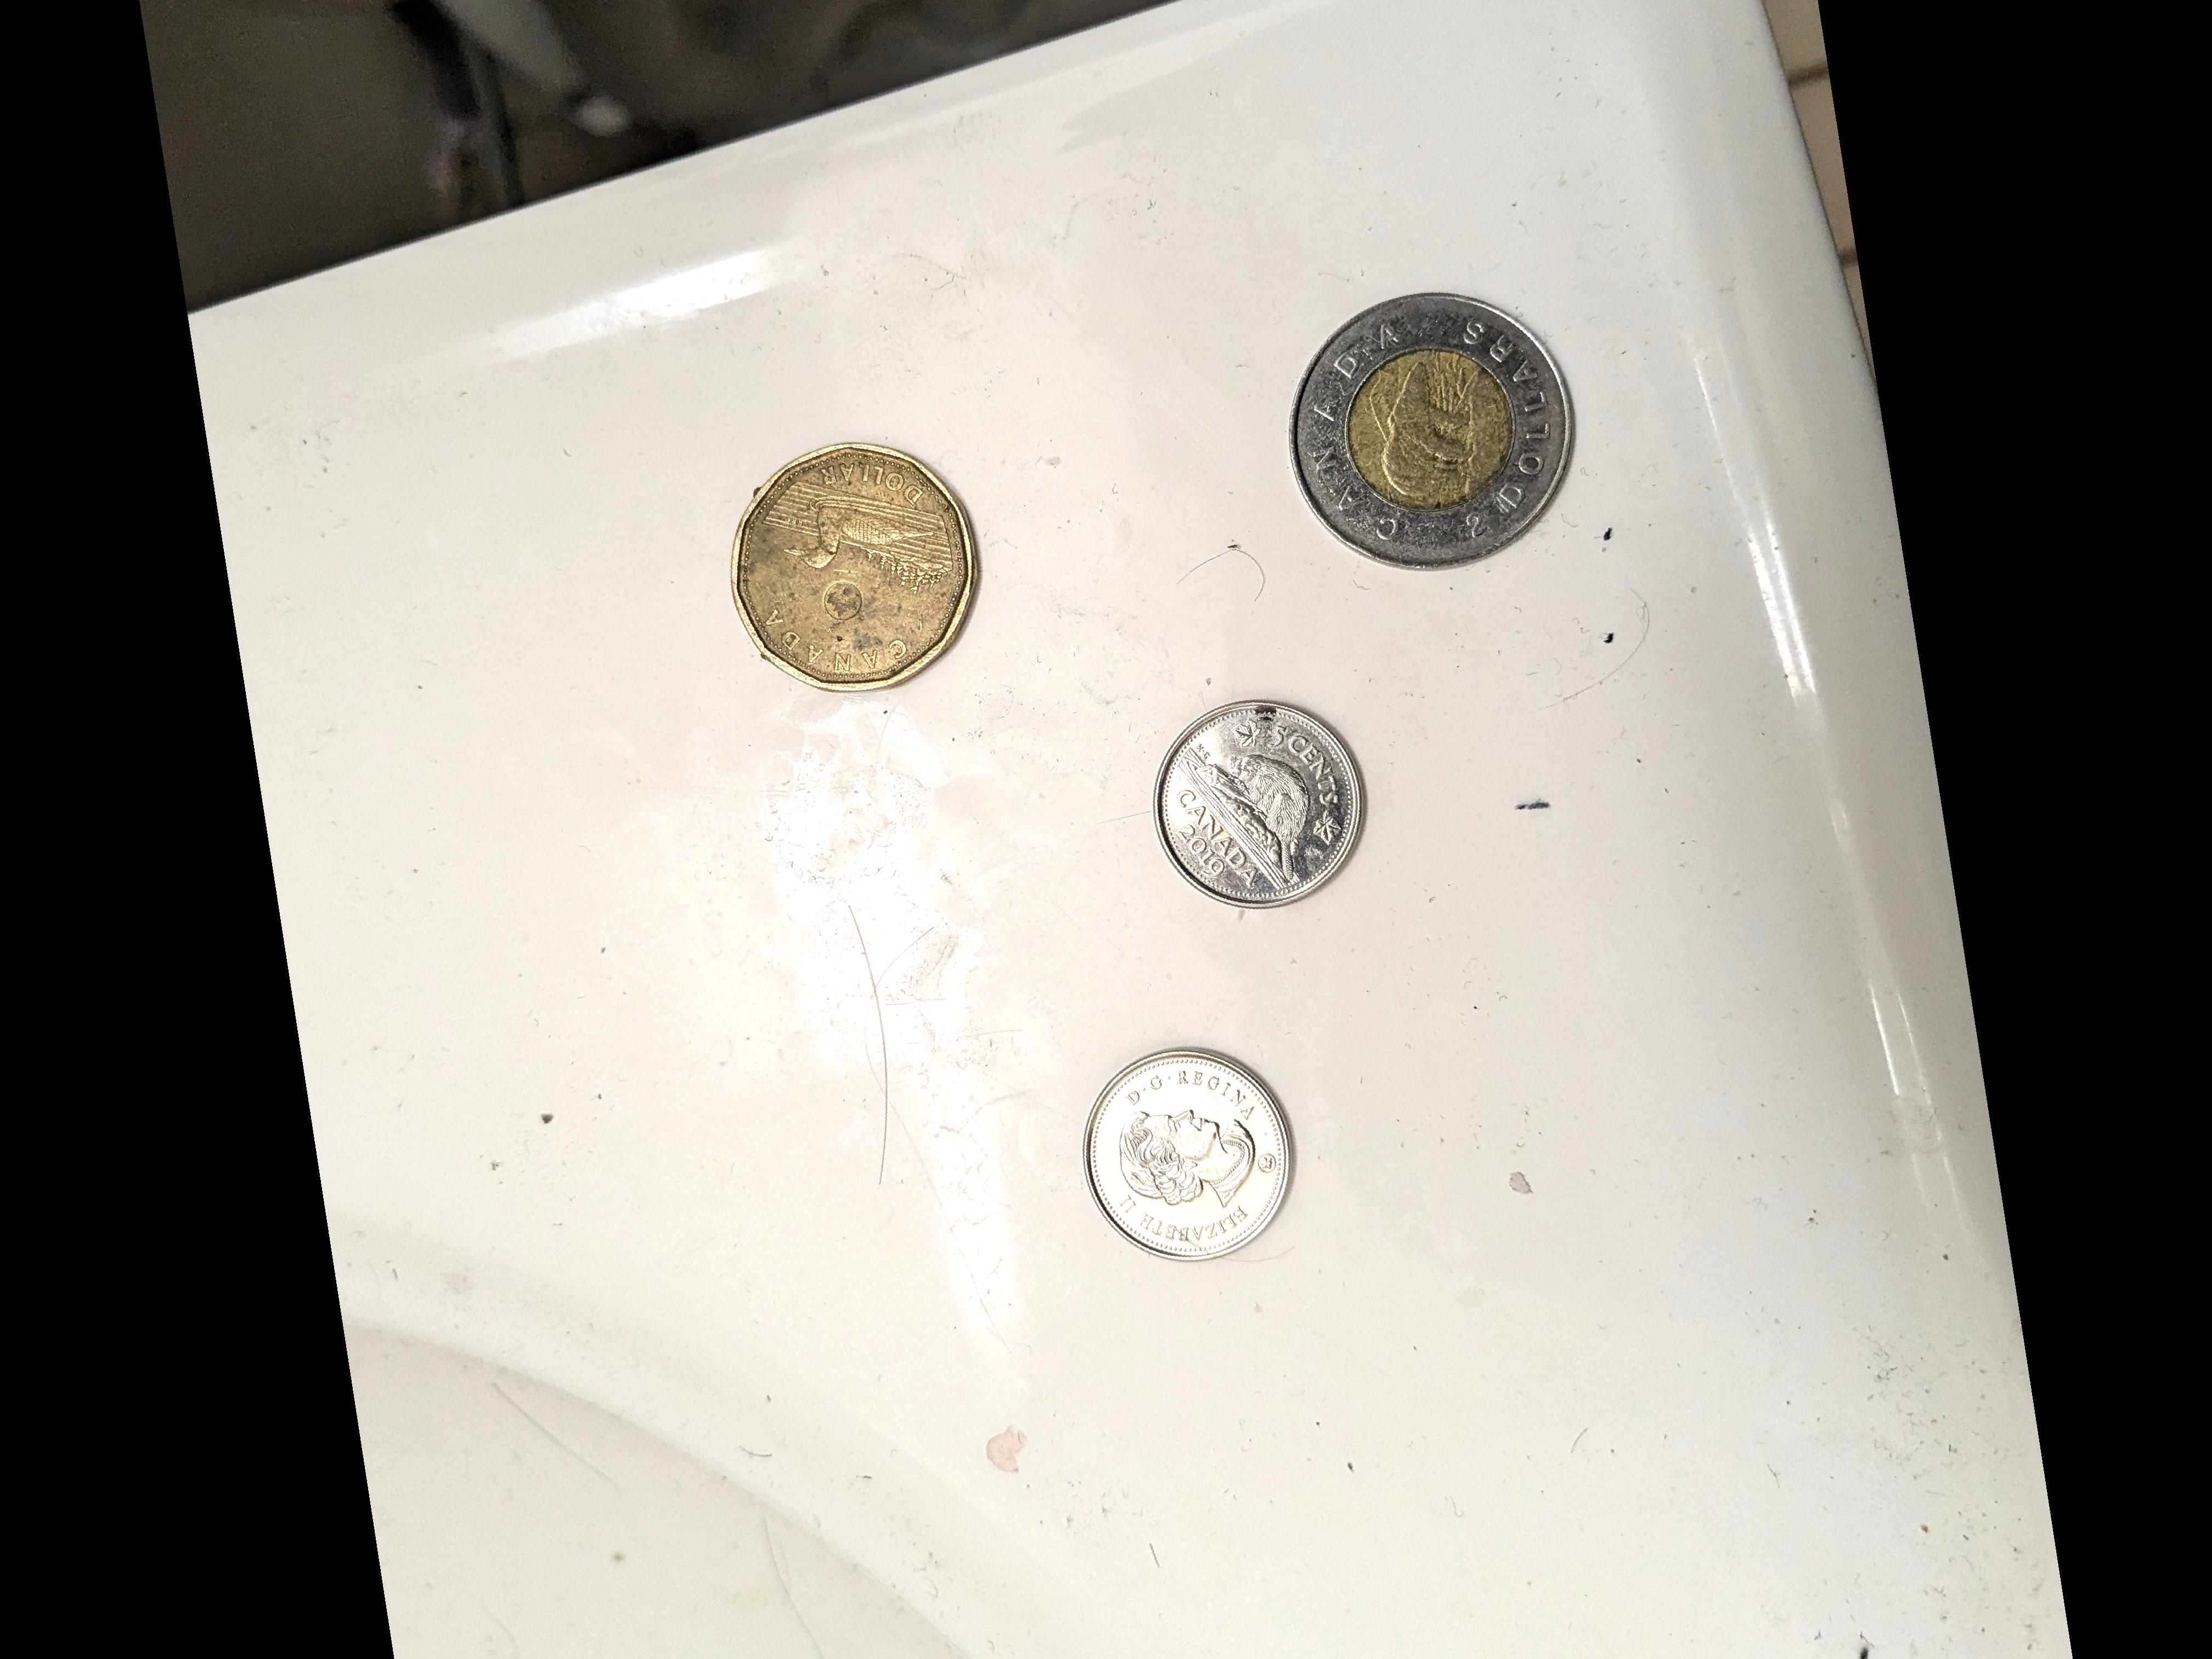loonie: (740, 439, 984, 699)
nickel: (1137, 695, 1395, 915), (1090, 1044, 1305, 1267)
toonie: (1278, 289, 1588, 570)
